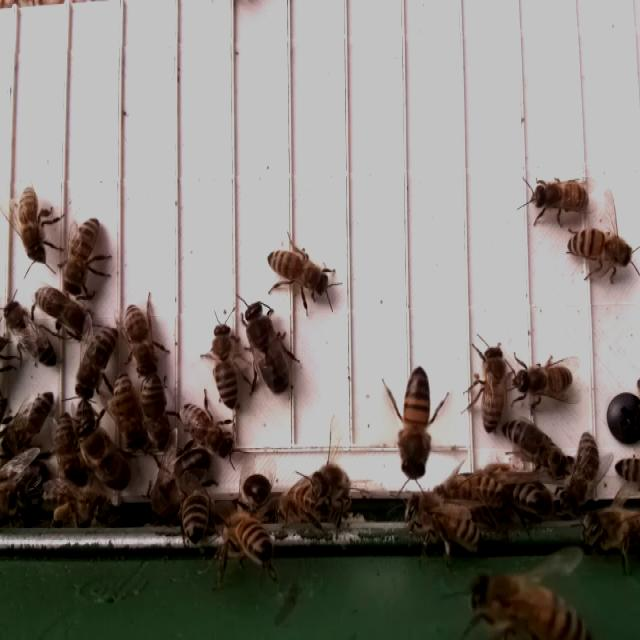Drone: (143, 445, 211, 524), (242, 298, 294, 400), (75, 416, 135, 496)
Worker: (396, 364, 434, 484), (2, 297, 61, 371), (0, 387, 57, 458), (556, 431, 598, 522), (264, 247, 337, 299), (503, 413, 564, 475), (183, 400, 238, 459), (111, 368, 147, 455), (76, 328, 120, 399), (66, 212, 102, 297), (209, 319, 242, 410), (473, 345, 505, 434), (565, 225, 632, 266), (30, 283, 86, 332), (17, 185, 50, 263), (53, 409, 85, 488), (142, 368, 173, 447), (513, 362, 574, 402), (530, 177, 593, 215), (123, 299, 155, 369)
